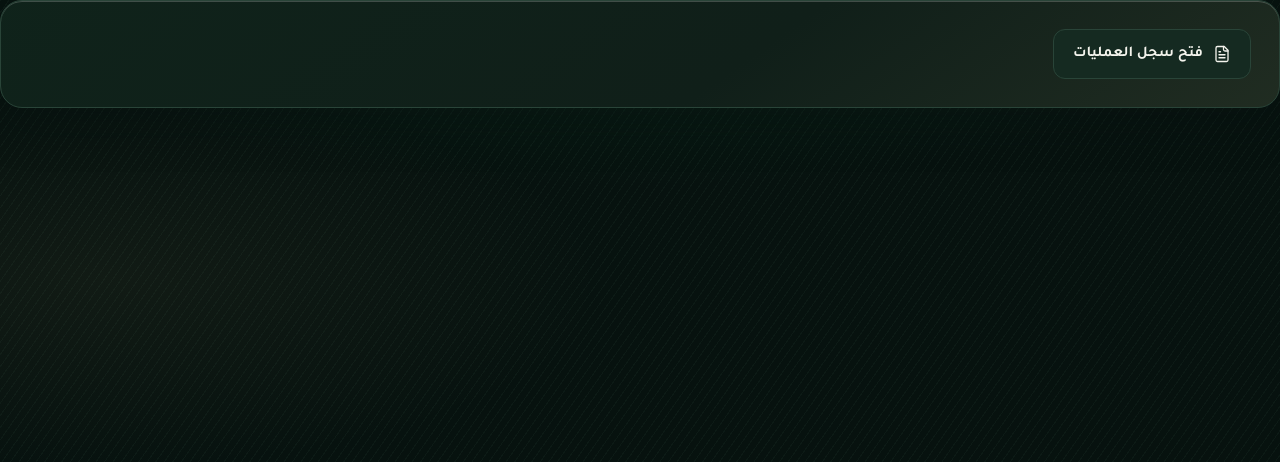
Test case: does not load a long audit record until opened and exposes export only afterwards
expect the text "تصدير" is not shown: met
Click the button "فتح سجل العمليات": click(1152, 54) x1=1053 y1=29 x2=1251 y2=79
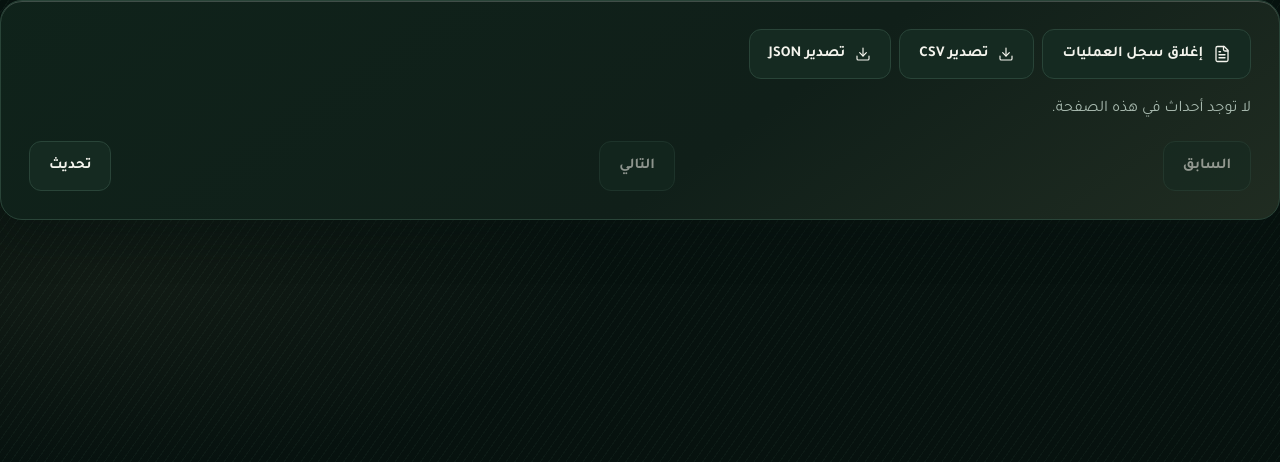
expect the text "تصدير CSV" is shown: met, box x1=899 y1=29 x2=1034 y2=79
expect the text "تصدير JSON" is shown: met, box x1=749 y1=29 x2=891 y2=79
